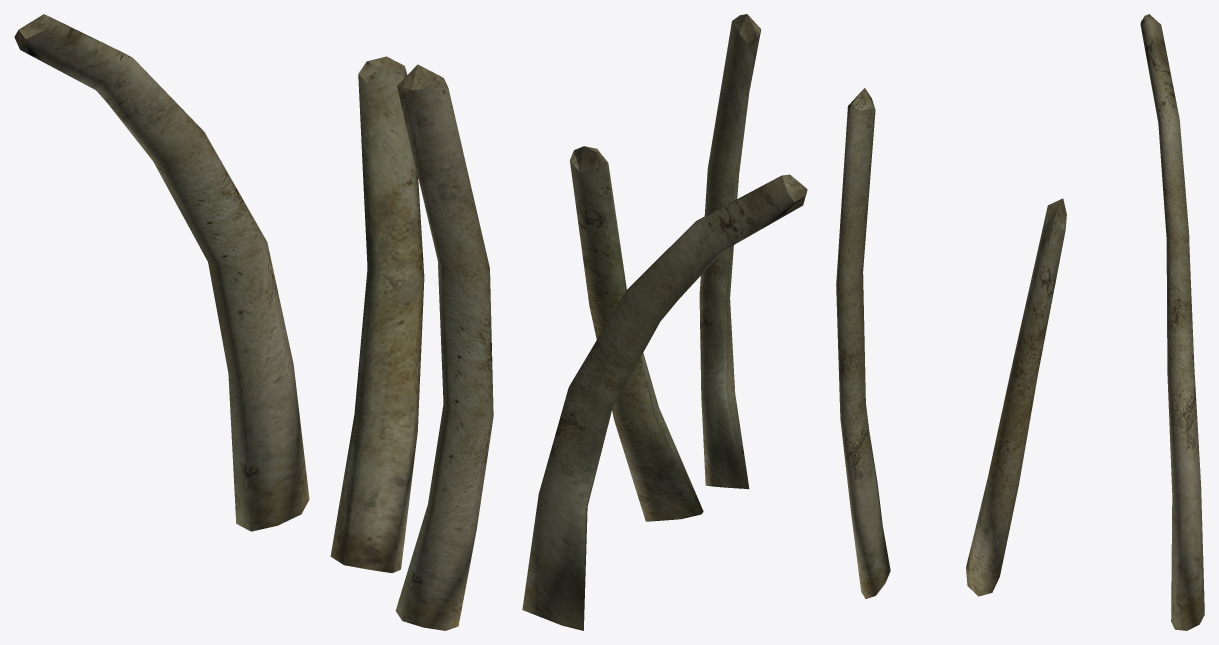
Rendered from bone_whale_deco02.fbx.
3 views of the same model, side by side, from view 1: azimuth 30°, elevation 25°; view 2: azimuth 150°, elevation 25°; view 3: azimuth 270°, elevation 25° (orthographic). The views are drawn at different scales.
Visible parts, largest first — view 1: bone_whale_deco02; view 2: bone_whale_deco02; view 3: bone_whale_deco02.
Part boxes in pixels (x1,y1,x2,y2): bone_whale_deco02: (14, 14, 493, 630); bone_whale_deco02: (522, 14, 807, 630); bone_whale_deco02: (836, 14, 1204, 630).
Size of the model in its own units: 6.42 by 10.96 by 7.03.
